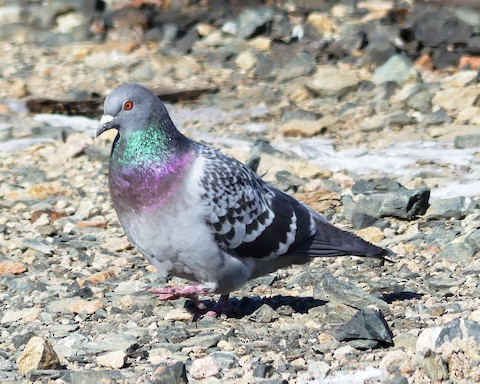pigeon: (95, 80, 399, 323)
